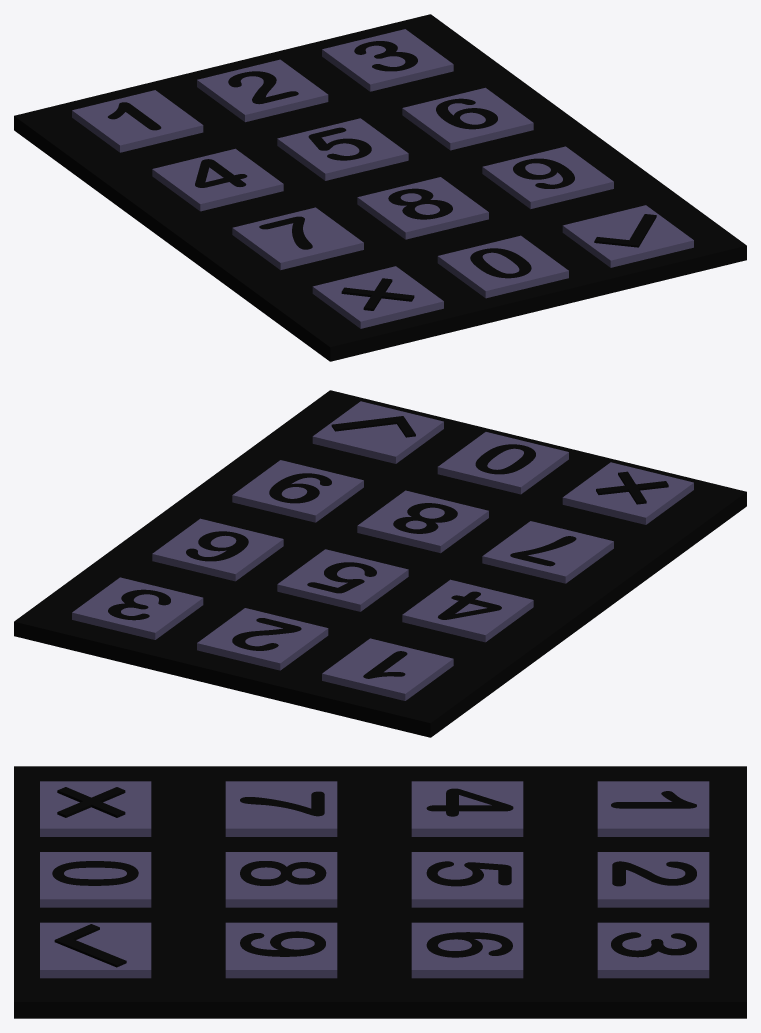
Rendered from digitPad.fbx.
The picture shows the model from 3 angles, top to bottom: view 1: azimuth 30°, elevation 25°; view 2: azimuth 150°, elevation 25°; view 3: azimuth 270°, elevation 25°; orthographic projection. The views are drawn at different scales.
Visible parts, largest first — view 1: Body, 4, 6, 2, 0, 7, 1, 3, 9, 8, 5, Tick (+1 smaller); view 2: Body, 4, 8, 5, 1, 2, 9, Tick, 7, 6, 3, 0 (+1 smaller); view 3: Body, 9, 6, 3, Tick, 2, 7, 8, 4, 5, 1, 0 (+1 smaller).
Part boxes in pixels (x1,y1,x2,y2): Body: (14,14,746,361); 4: (152,148,283,211); 6: (402,87,533,150); 2: (197,59,328,122); 0: (437,235,568,298); 7: (232,207,363,270); 1: (72,90,203,152); 3: (322,29,453,91); 9: (482,146,613,209); 8: (357,177,488,239); 5: (277,118,408,180); Tick: (562,205,693,267); Body: (14,390,746,737); 4: (402,579,533,642); 8: (357,490,488,553); 5: (277,549,408,611); 1: (322,638,453,700); 2: (197,608,328,670); 9: (232,460,363,522); Tick: (312,401,443,463); 7: (482,521,613,583); 6: (152,518,283,581); 3: (72,577,203,639); 0: (437,432,568,494); Body: (14,766,746,1018); 9: (225,922,337,978); 6: (411,922,523,978); 3: (597,922,709,978); Tick: (40,922,151,978); 2: (597,852,709,907); 7: (225,781,337,836); 8: (225,852,337,907); 4: (411,781,523,836); 5: (411,852,523,907); 1: (597,781,709,836); 0: (40,852,151,907).
Size of the model in its own units: 300 by 16.5 by 394.
